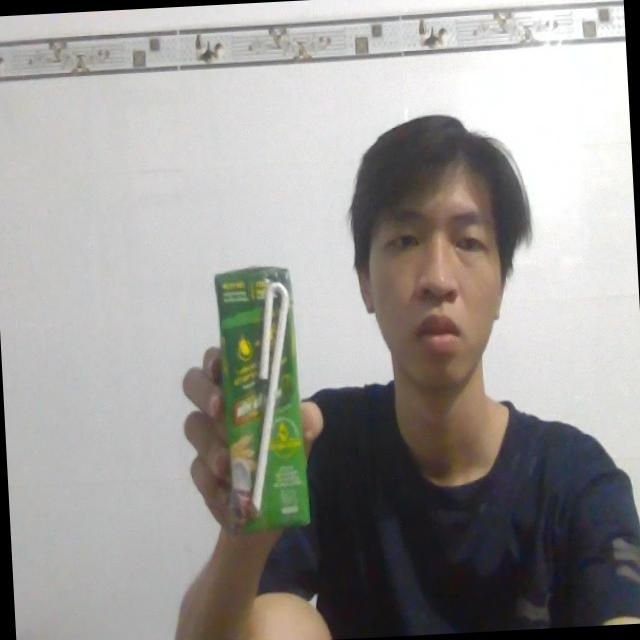sua milo: (204, 252, 317, 542)
